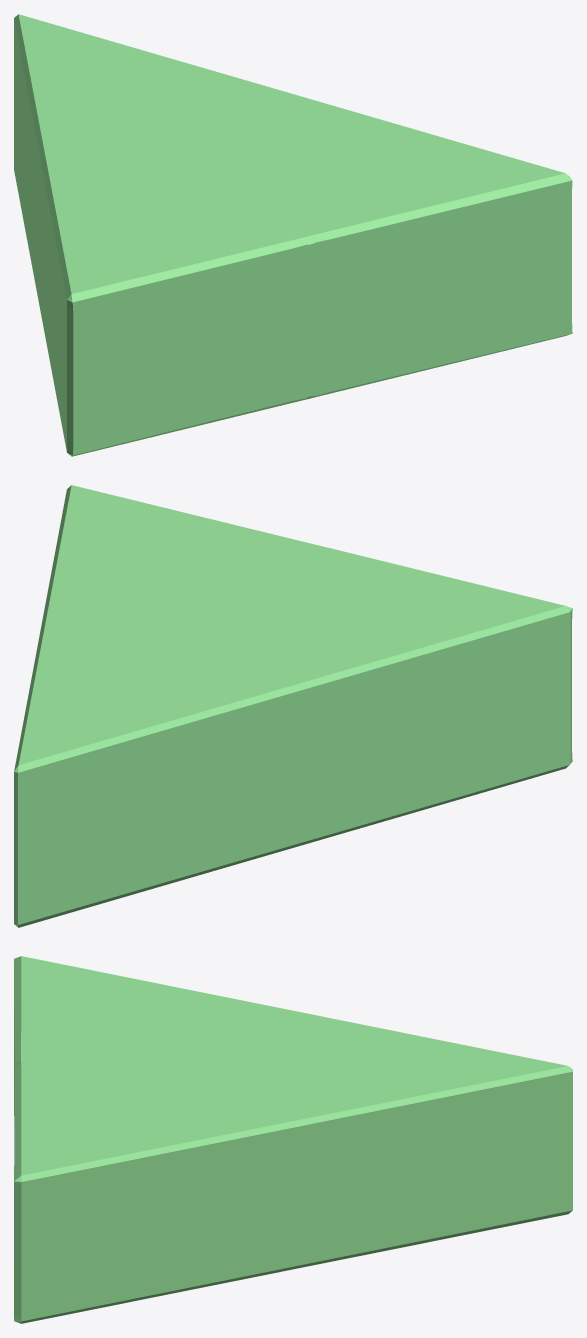
Rendered from Triangulo_01.fbx.
3 views of the same model, one above another, from view 1: azimuth 30°, elevation 25°; view 2: azimuth 150°, elevation 25°; view 3: azimuth 270°, elevation 25° (orthographic). The views are drawn at different scales.
Visible parts, largest first — view 1: polySurface50; view 2: polySurface50; view 3: polySurface50.
Boxes of the visible parts, x1,y1,x2,y2 form: polySurface50: (14, 14, 572, 456); polySurface50: (14, 485, 572, 927); polySurface50: (14, 956, 572, 1323).
Bounding box in the file's own units: 3.33 × 1.03 × 3.51.
